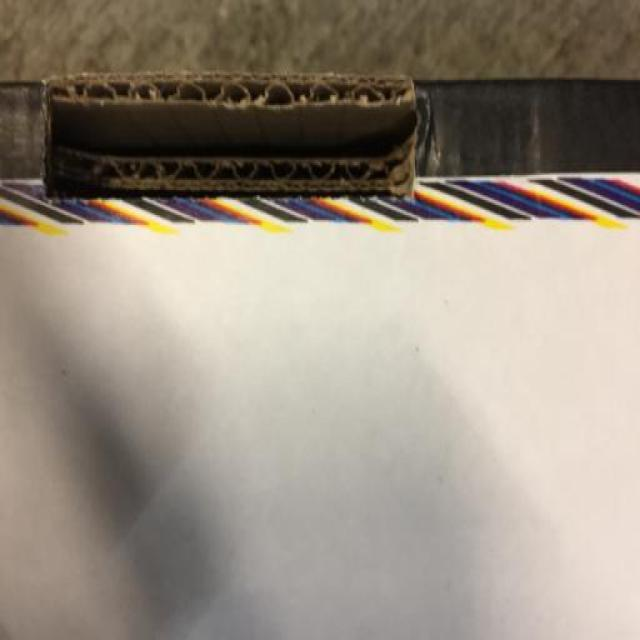cardboard: (0, 73, 640, 640)
